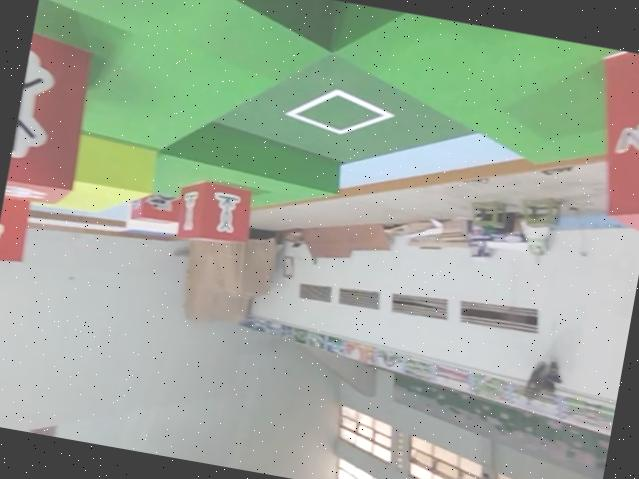R1: (125, 179, 186, 230)
R2 Fake: (0, 181, 35, 272)
R2 Real: (3, 22, 101, 211), (168, 173, 259, 252)
